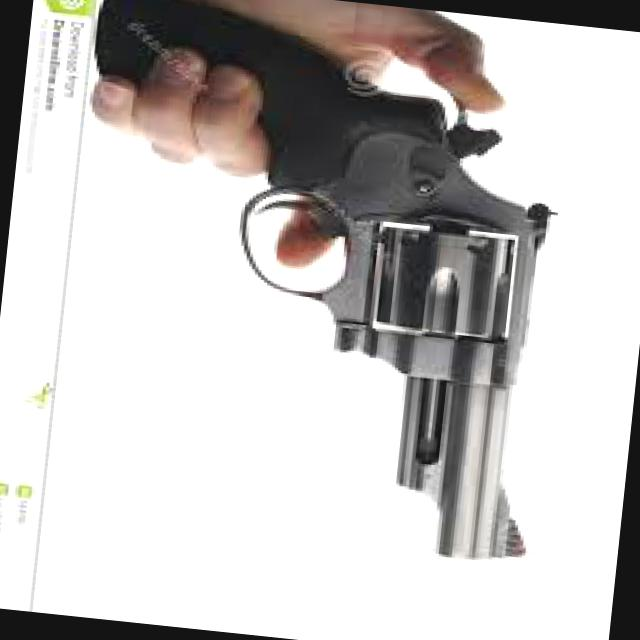handgun: (61, 0, 583, 558)
